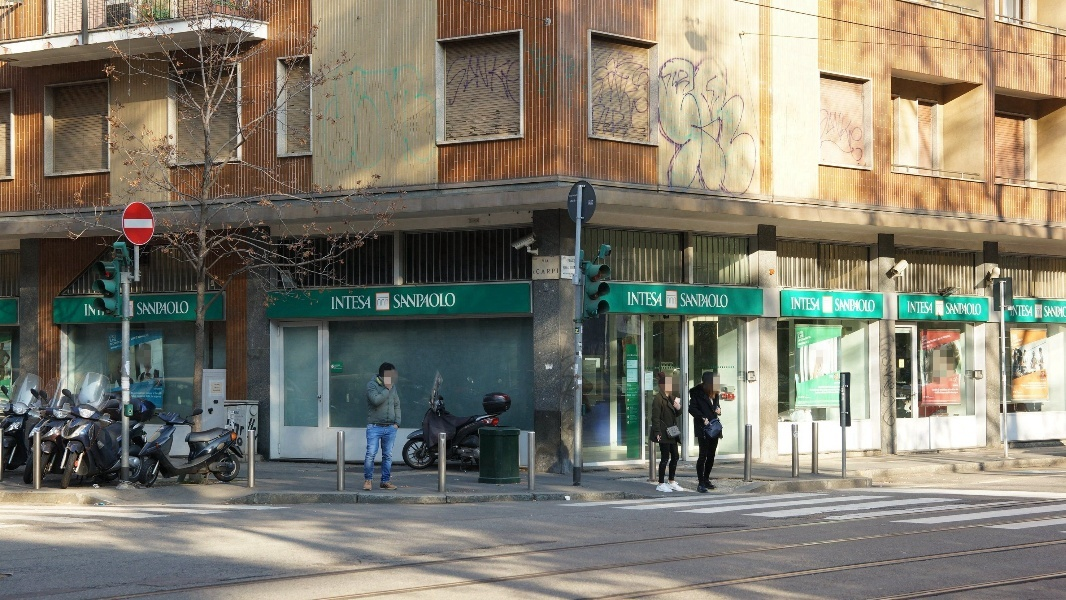text: (627, 399, 640, 425), (337, 295, 352, 310), (353, 295, 368, 310), (401, 293, 416, 308), (417, 293, 432, 308), (433, 293, 448, 308), (641, 291, 656, 306), (689, 293, 704, 308), (705, 293, 720, 308), (801, 297, 816, 311), (849, 298, 864, 312), (145, 301, 160, 315), (161, 301, 176, 315), (627, 291, 640, 306), (961, 303, 976, 316), (835, 298, 848, 312), (946, 303, 960, 316), (913, 302, 928, 314), (177, 301, 189, 315), (929, 335, 944, 346), (129, 364, 144, 375), (627, 370, 640, 382), (1044, 306, 1056, 319), (84, 304, 96, 317), (865, 298, 876, 312), (627, 383, 640, 394), (791, 297, 800, 311), (680, 293, 688, 308), (721, 293, 729, 308), (817, 386, 832, 394), (1025, 382, 1040, 390), (1057, 306, 1066, 319), (1014, 306, 1024, 317), (1012, 338, 1024, 347), (449, 293, 456, 308), (657, 291, 664, 306), (545, 268, 559, 275), (137, 301, 144, 315), (228, 411, 240, 419), (131, 334, 144, 341), (89, 303, 96, 316), (394, 293, 400, 308), (646, 376, 656, 385), (1025, 306, 1033, 317), (584, 364, 592, 375), (945, 388, 959, 394), (1010, 310, 1024, 316), (98, 310, 112, 316), (214, 384, 224, 392), (627, 361, 640, 367), (533, 268, 544, 275), (945, 335, 952, 346), (331, 295, 336, 310), (801, 336, 812, 342), (933, 388, 944, 394), (977, 303, 982, 316), (147, 380, 160, 385), (113, 340, 122, 347), (929, 302, 934, 314), (145, 395, 160, 399), (817, 297, 821, 311), (833, 386, 840, 394), (923, 335, 928, 346), (131, 395, 144, 399), (810, 386, 816, 394), (908, 302, 912, 314), (948, 378, 960, 382), (1041, 382, 1047, 390), (369, 295, 372, 310), (801, 341, 810, 346), (801, 401, 816, 404), (817, 401, 832, 404), (929, 400, 944, 403), (945, 400, 960, 403), (1025, 395, 1040, 398), (145, 392, 160, 395), (113, 345, 122, 350), (834, 382, 848, 385), (130, 392, 144, 395), (627, 394, 640, 397), (579, 381, 592, 384), (122, 382, 128, 388), (337, 365, 344, 370), (145, 334, 150, 341), (1013, 395, 1024, 398), (1013, 391, 1024, 394), (593, 364, 596, 375), (568, 259, 576, 263), (801, 396, 811, 399), (922, 338, 928, 343), (1041, 379, 1056, 381), (563, 267, 576, 269), (563, 273, 576, 275), (923, 344, 928, 349), (113, 337, 117, 343), (833, 401, 840, 404), (534, 259, 544, 261), (929, 344, 933, 349), (235, 411, 240, 415), (570, 267, 576, 270), (1041, 395, 1047, 398), (109, 337, 112, 343), (1022, 382, 1024, 390), (801, 334, 804, 339), (801, 331, 804, 336), (923, 336, 928, 339), (569, 276, 576, 278), (953, 385, 960, 387), (110, 340, 112, 347), (627, 355, 640, 356), (545, 260, 549, 263), (628, 358, 640, 359), (798, 336, 800, 342), (829, 375, 832, 379), (929, 396, 935, 398), (924, 400, 928, 403), (575, 365, 576, 376), (577, 365, 578, 376), (577, 329, 579, 334), (798, 334, 800, 339), (798, 331, 800, 336), (1037, 373, 1040, 376), (924, 396, 928, 398), (542, 260, 544, 263), (798, 401, 800, 404), (113, 336, 116, 338), (799, 341, 800, 346), (335, 365, 336, 370), (155, 389, 160, 390), (111, 345, 112, 350), (833, 375, 834, 379), (161, 395, 162, 399), (110, 336, 112, 338), (799, 396, 800, 399), (161, 392, 162, 395), (161, 389, 162, 390)
